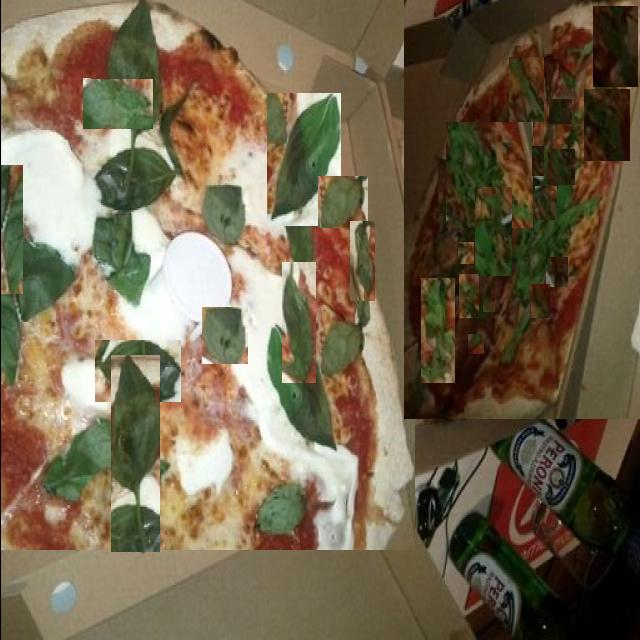basil: (266, 93, 340, 226), (110, 355, 159, 552), (445, 122, 532, 228), (13, 230, 77, 322), (94, 340, 180, 402), (281, 262, 315, 383), (116, 25, 169, 97), (592, 6, 637, 87), (420, 278, 454, 383), (82, 79, 152, 129), (583, 89, 629, 161), (474, 187, 511, 276), (43, 44, 90, 106), (252, 17, 311, 66), (0, 166, 22, 296), (201, 308, 247, 366), (317, 176, 367, 228), (507, 57, 542, 122), (349, 221, 374, 301), (570, 183, 605, 238), (547, 149, 574, 185), (458, 274, 478, 318), (444, 354, 472, 382), (534, 187, 556, 220), (529, 284, 549, 318), (545, 257, 567, 287), (548, 99, 571, 124), (531, 146, 543, 176), (457, 242, 473, 264), (548, 124, 562, 148), (467, 334, 483, 354), (482, 296, 494, 312)
pizza: (0, 0, 414, 550), (403, 0, 640, 419)
